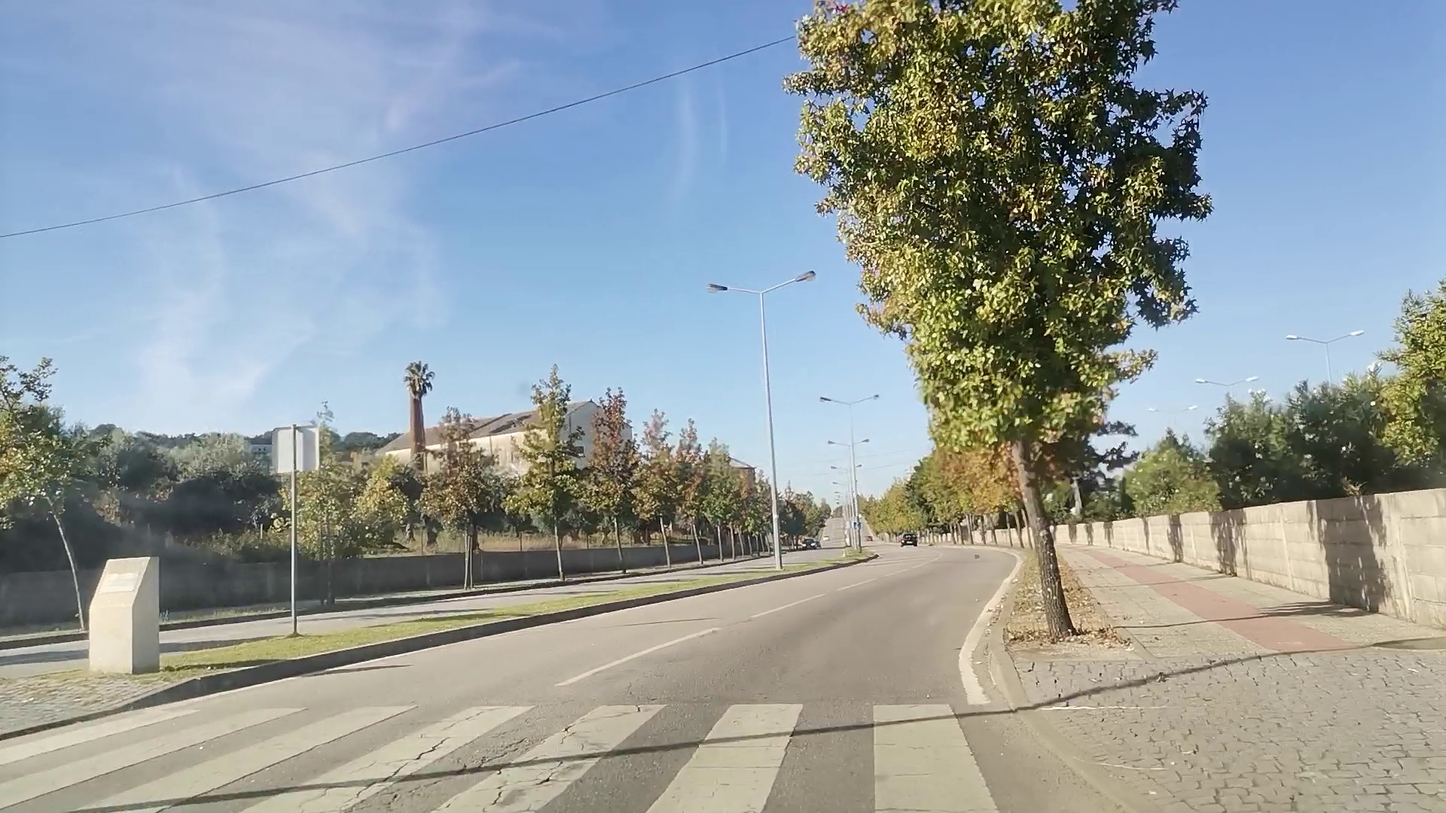Stairs: (110, 703, 1035, 813)
